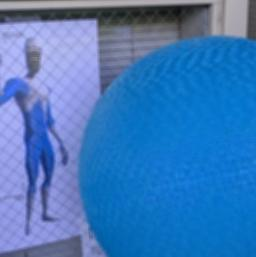algae: (73, 33, 256, 257)
